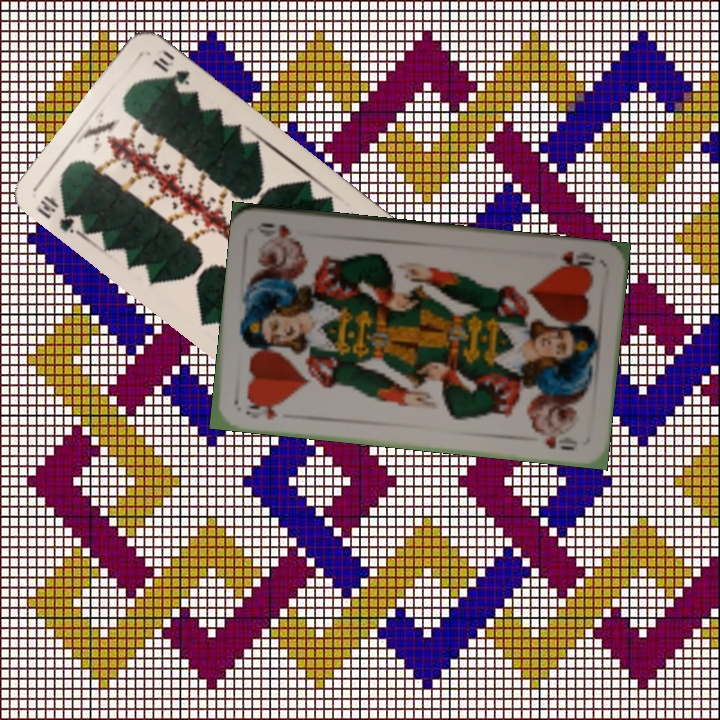G10: (32, 191, 86, 236)
HO: (555, 247, 598, 273), (241, 397, 284, 422)
